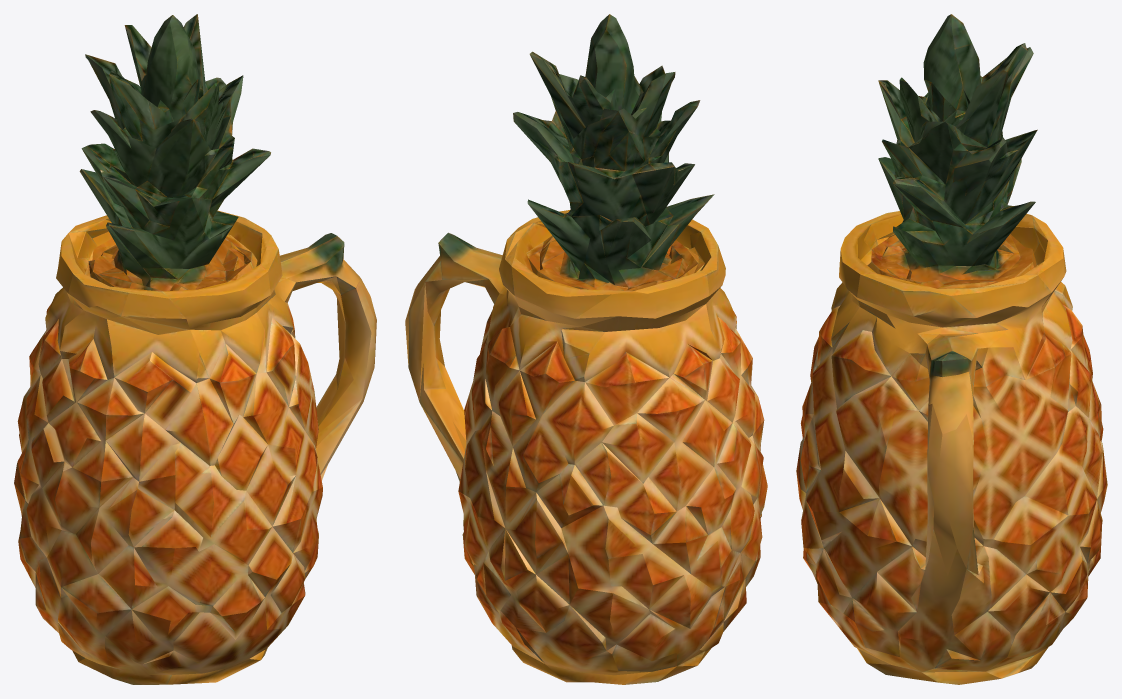
The model's file is pineapple-mug.glb.
3 views of the same model, side by side, from view 1: azimuth 30°, elevation 25°; view 2: azimuth 150°, elevation 25°; view 3: azimuth 270°, elevation 25° (orthographic).
Parts seen in each view (by area): view 1: output_unwrapped; view 2: output_unwrapped; view 3: output_unwrapped.
Part boxes in pixels (x1,y1,x2,y2): output_unwrapped: [14, 14, 376, 684]; output_unwrapped: [405, 14, 767, 684]; output_unwrapped: [796, 14, 1107, 684].
Bounding box in the file's own units: 1.07 × 1.9 × 0.8491.
Materials: 1 (1 with a texture image).
